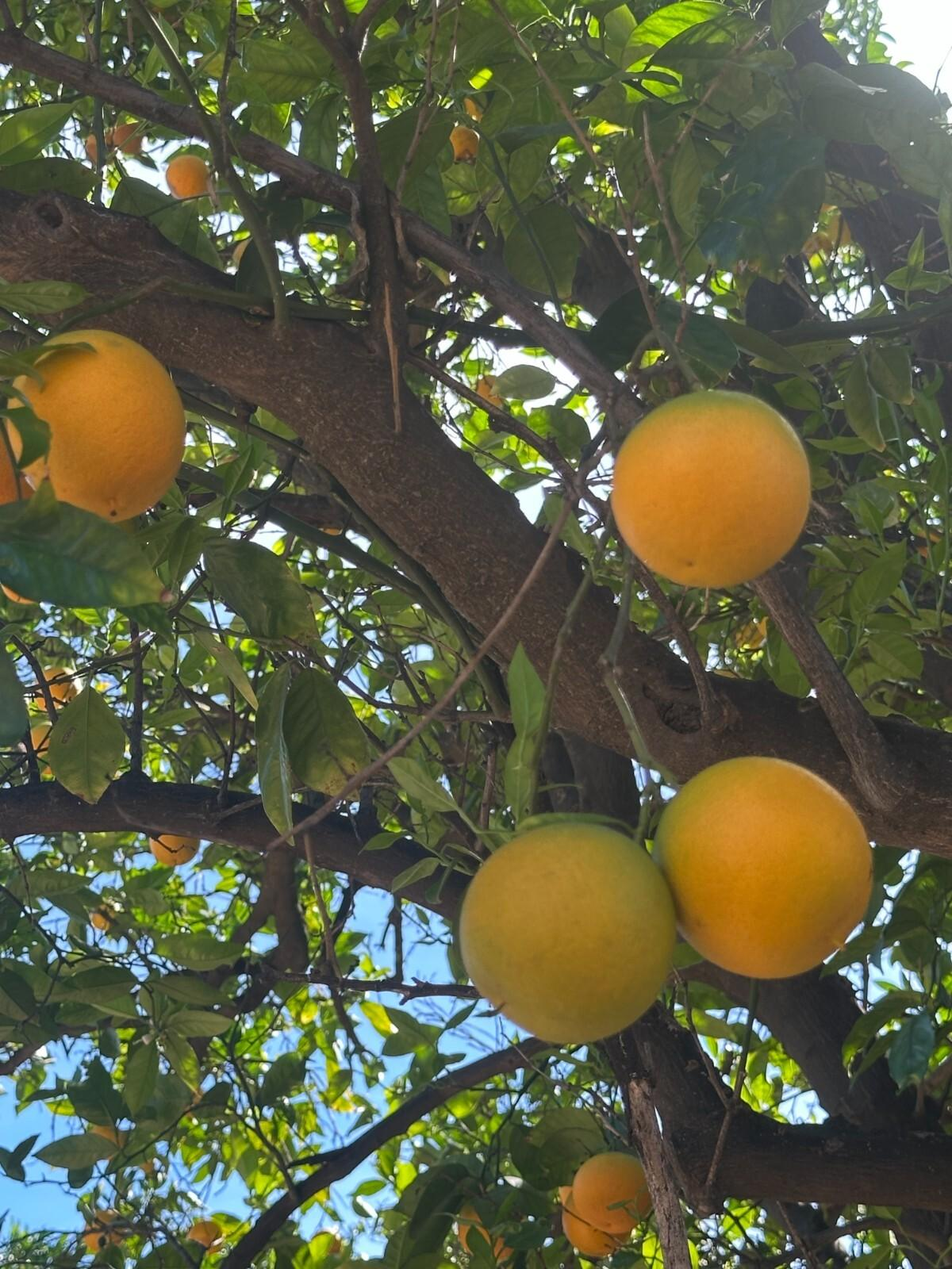orange: (460, 815, 675, 1043), (654, 757, 872, 978), (611, 391, 810, 587), (7, 329, 186, 522), (573, 1150, 655, 1233), (563, 1190, 633, 1255), (0, 408, 36, 505), (458, 1198, 513, 1256), (31, 666, 85, 713), (84, 1208, 125, 1254), (149, 832, 201, 866), (167, 155, 209, 197), (30, 721, 57, 776), (88, 1125, 124, 1158), (473, 374, 506, 408), (187, 1222, 223, 1253), (451, 125, 478, 163), (87, 131, 117, 165), (733, 618, 766, 648), (826, 212, 853, 248), (113, 123, 144, 153), (0, 584, 40, 605), (311, 1231, 344, 1254), (91, 902, 115, 933), (462, 96, 484, 123), (559, 1183, 573, 1207)
